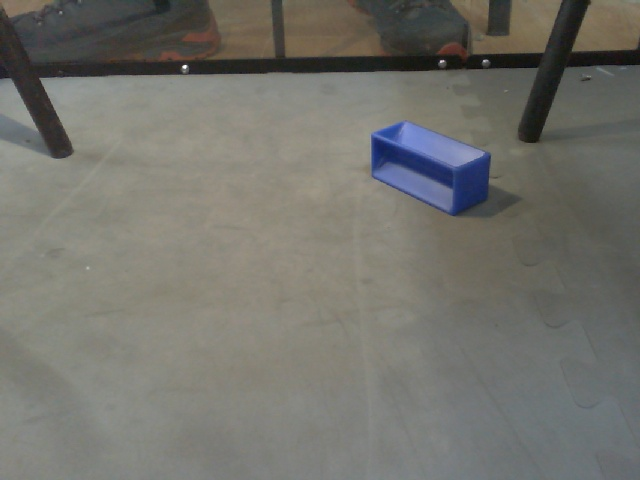BlueSample: (366, 119, 495, 215)
